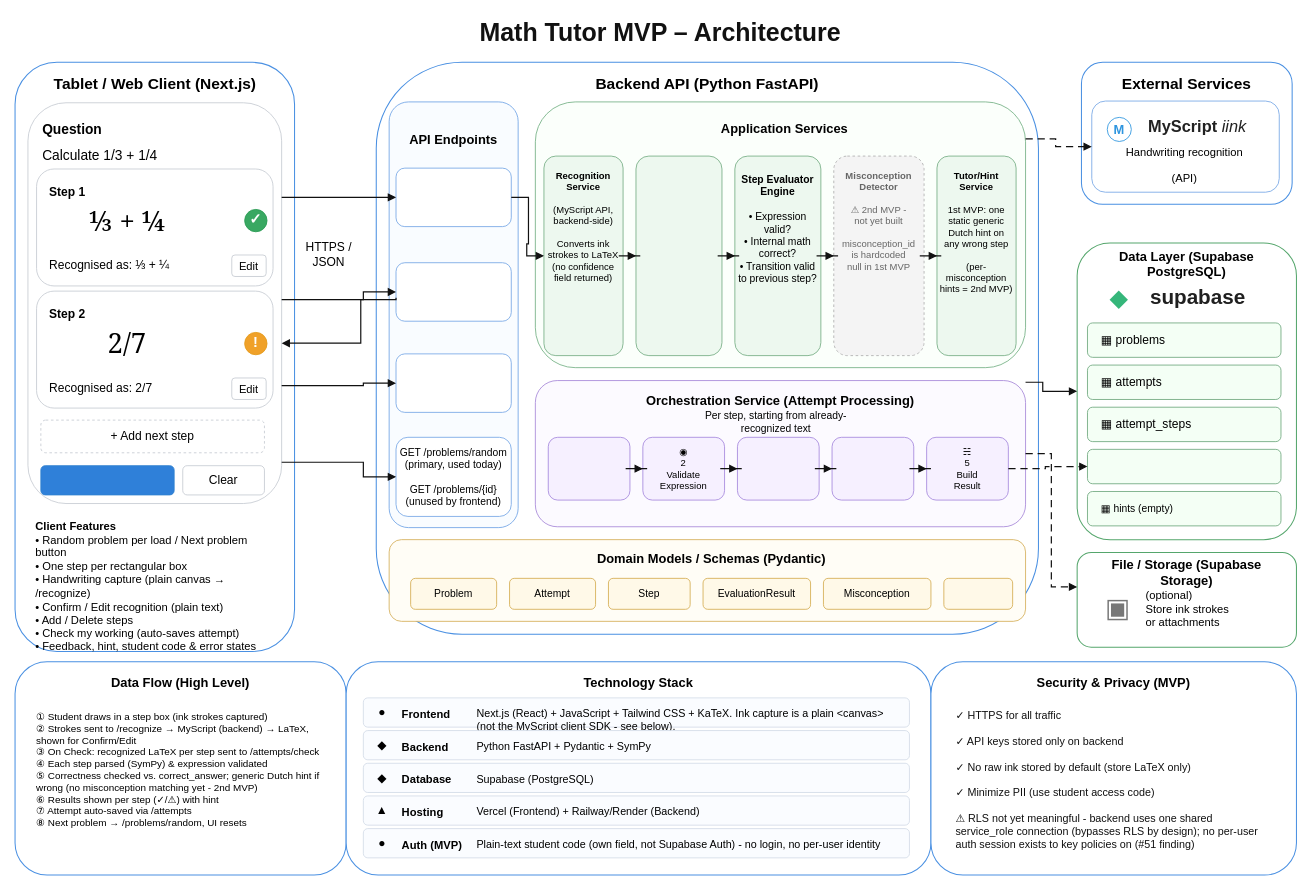
Image size: 1312x890. Some labels were removed from this diagram. The shapes that lost their labels are listed below. From the top down, each one's centre as x and y in pixels, then its label:
point (453, 197): POST /recognize (strokes → LaTeX)
point (678, 255): Math Parser & Normalizer Parse LaTeX using SymPy Create canonical expression
point (453, 291): POST /attempts/check (validate steps)
point (453, 382): POST /attempts (save attempt)
point (107, 480): Check my working
point (588, 468): ☷ 1 Parse (SymPy)
point (778, 468): ⌘ 3 Check Correctness
point (872, 468): ⚠ 4 Generic Hint (if wrong)
point (1184, 466): ▦ misconception_rules (empty)
point (978, 593): Hint
